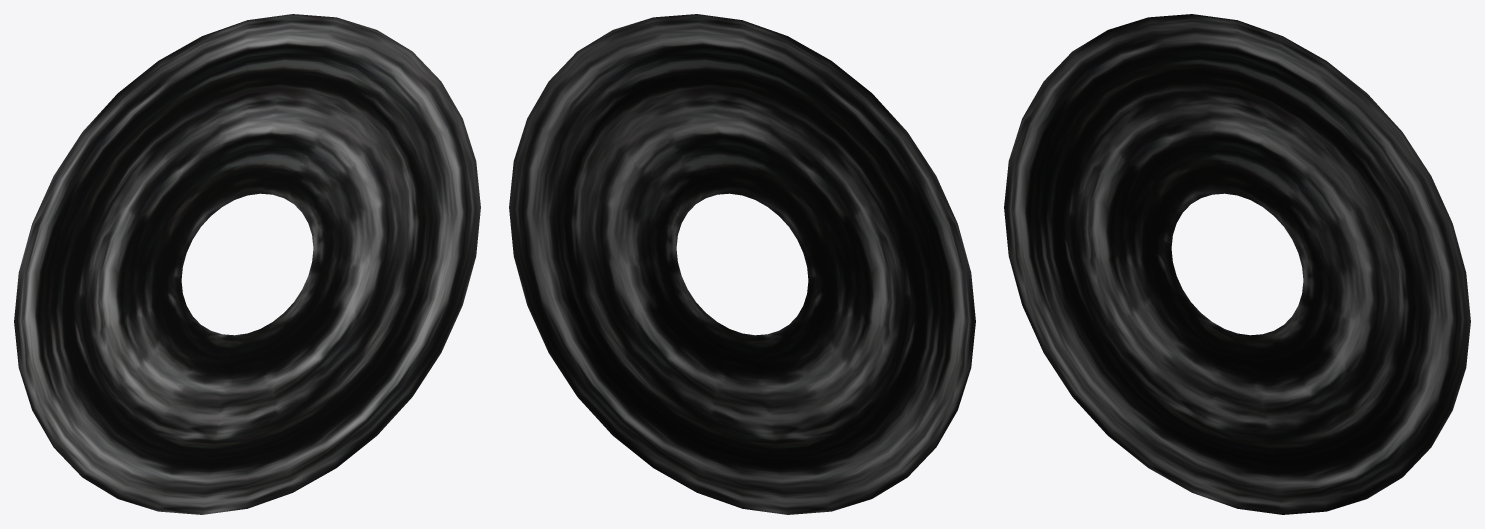
File: sunPlasma.fbx
3 renders of one model, left to right at view 1: azimuth 30°, elevation 25°; view 2: azimuth 150°, elevation 25°; view 3: azimuth 330°, elevation 25°, orthographic.
Parts seen in each view (by area): view 1: SolPlasma; view 2: SolPlasma; view 3: SolPlasma.
Boxes of the visible parts, bbox=[...] form: SolPlasma: bbox=[14, 14, 480, 514]; SolPlasma: bbox=[509, 14, 975, 514]; SolPlasma: bbox=[1004, 14, 1470, 514].
Bounding box in the file's own units: 202 × 202 × 0.000355.
